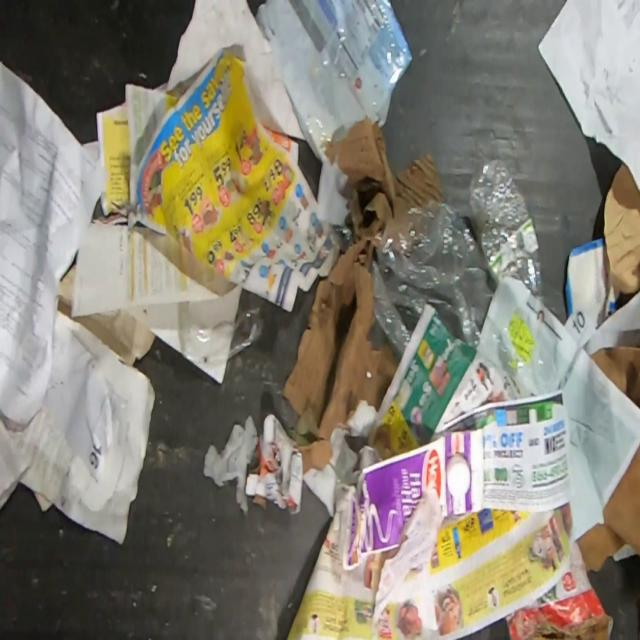cardboard: (341, 428, 483, 571), (504, 530, 613, 639), (574, 443, 640, 574), (604, 161, 640, 294), (589, 345, 640, 410)
rigid_plastic: (179, 301, 264, 363)
soft_plastic: (369, 154, 544, 377), (259, 0, 413, 148)
